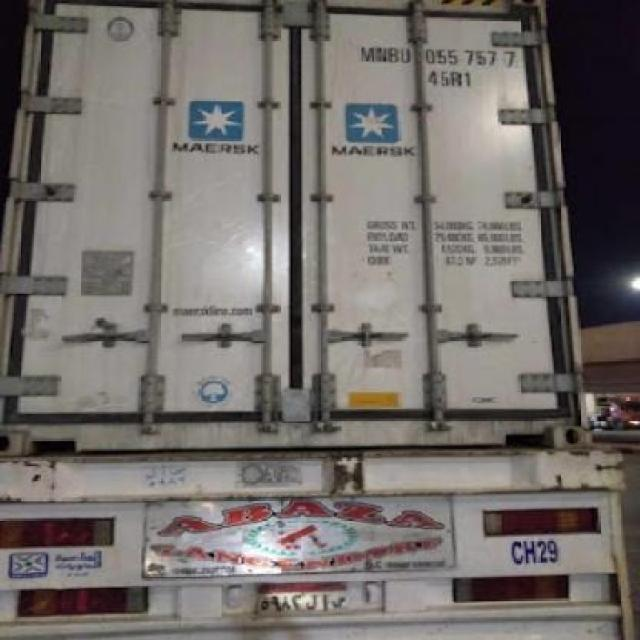ISO: (424, 64, 474, 90)
container_number: (348, 38, 522, 69)
